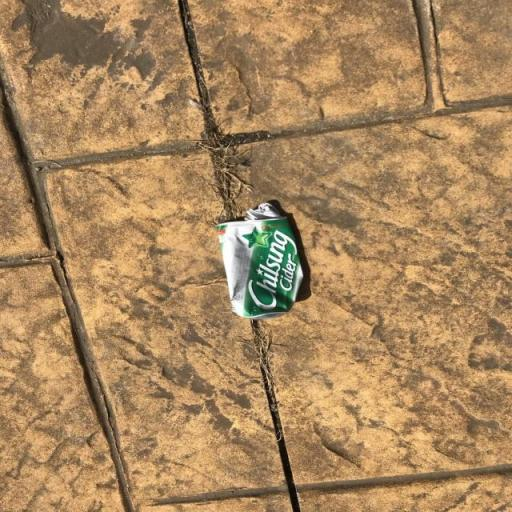metal: (195, 194, 352, 341)
